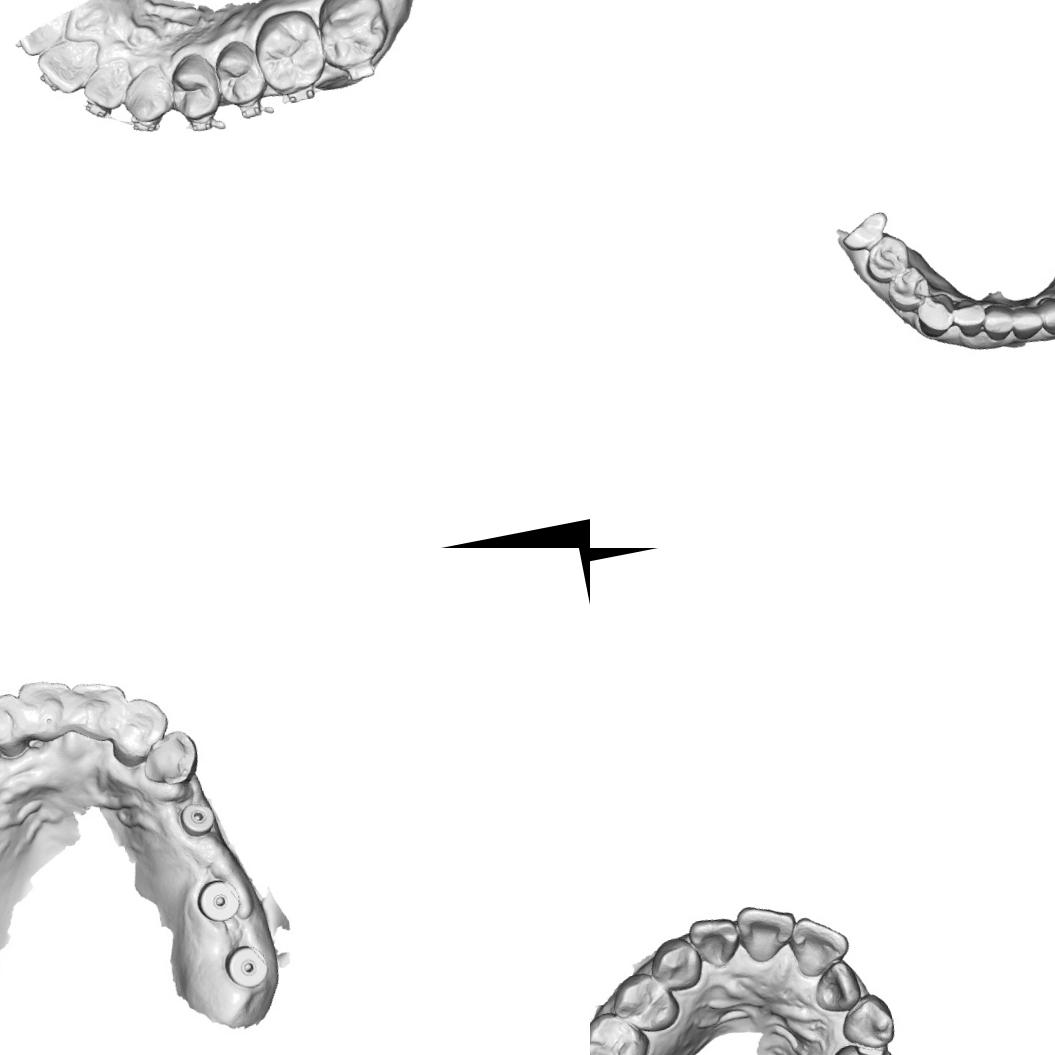canine: (137, 725, 204, 792), (116, 59, 182, 126), (834, 988, 898, 1054), (644, 932, 708, 996), (912, 289, 959, 340), (1035, 290, 1055, 337)
implant: (218, 937, 274, 996), (190, 874, 244, 930), (174, 796, 221, 842)
incisor: (10, 669, 81, 750), (61, 672, 136, 748), (104, 688, 176, 766), (29, 31, 108, 100), (732, 896, 802, 968), (785, 908, 854, 981), (75, 54, 140, 117), (684, 912, 744, 972), (808, 958, 865, 1017), (0, 686, 33, 767), (948, 295, 989, 340), (978, 300, 1016, 344), (1006, 300, 1044, 341)
inlay: (842, 1038, 894, 1055)
molar: (248, 2, 334, 98), (311, 0, 396, 74)
premolar: (161, 46, 232, 125), (608, 966, 684, 1038), (208, 34, 270, 109), (590, 1004, 652, 1055), (859, 231, 913, 287), (882, 262, 934, 316)
